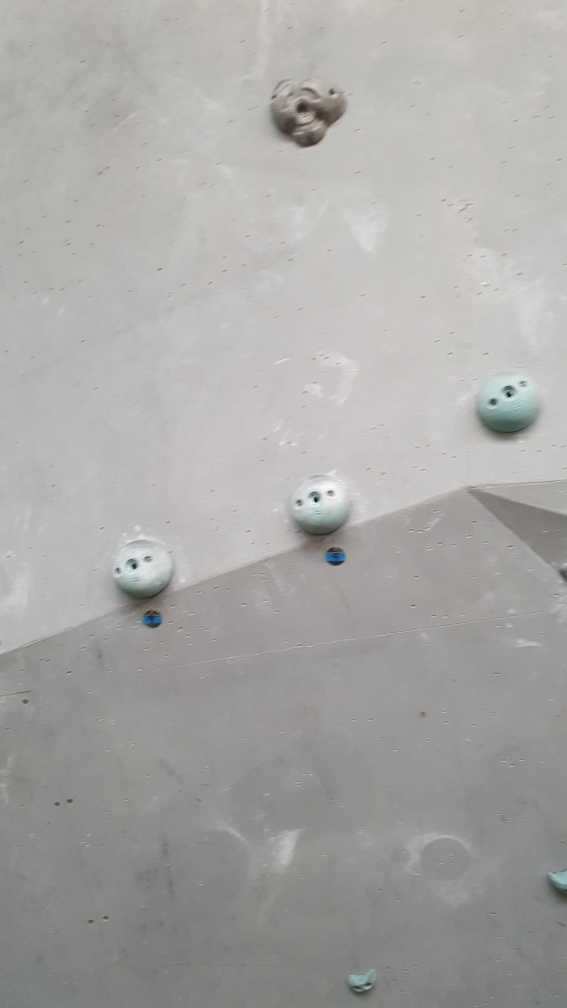Hand Start: (322, 542, 348, 568), (139, 609, 166, 634)
Jug: (267, 72, 349, 150)
Sloper: (288, 470, 358, 539), (477, 368, 546, 438), (108, 537, 175, 605)
